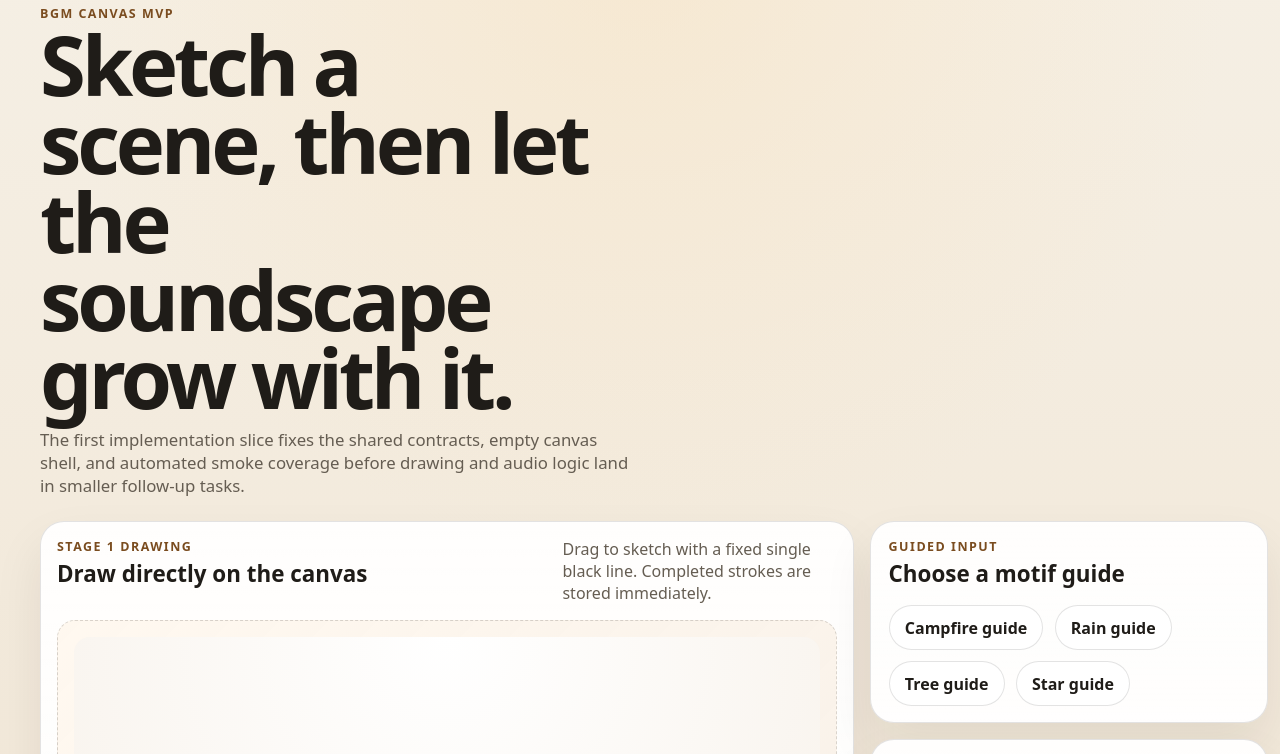
Test: App bootstrap › uses the selected guide motif after drawing
Click the button "Rain guide" at [1113, 628], box x1=1055 y1=605 x2=1172 y2=650
(page scrolled)
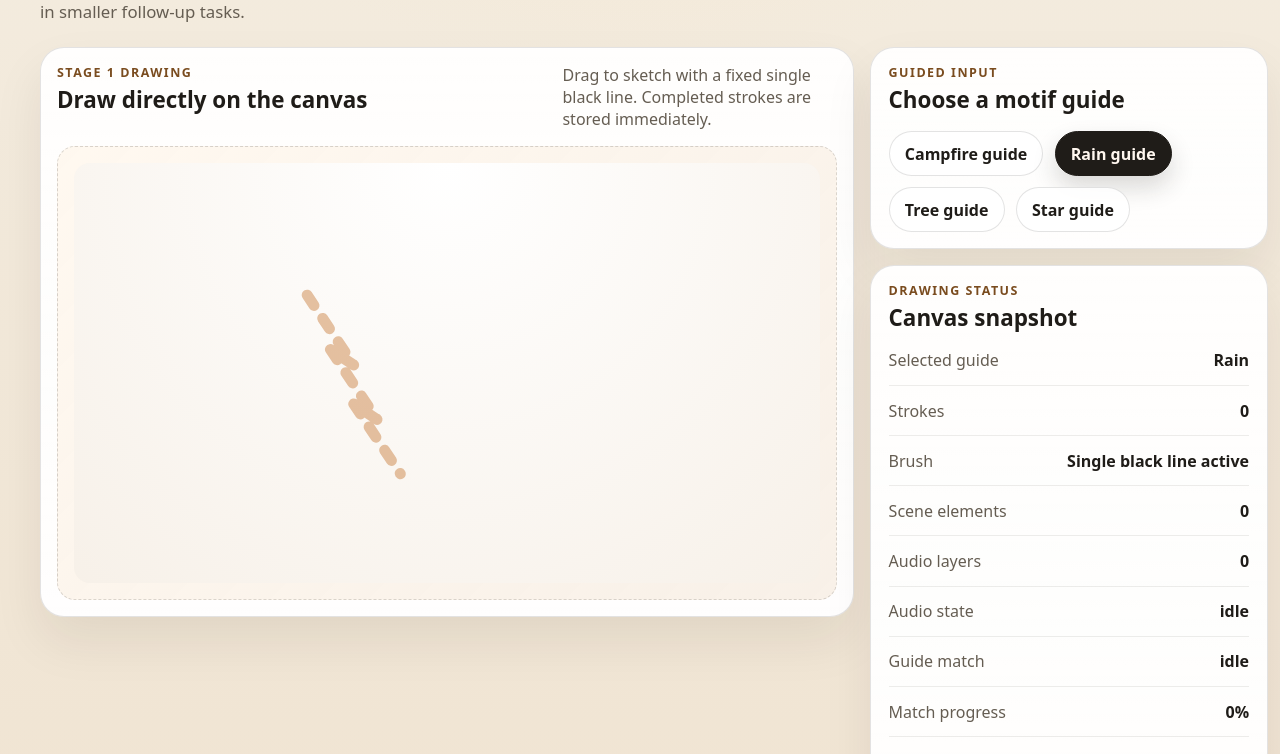
Press the mouse on the drawing named "bgm canvas drawing surface" at [447, 373], box x1=74 y1=163 x2=820 y2=583
(page scrolled)
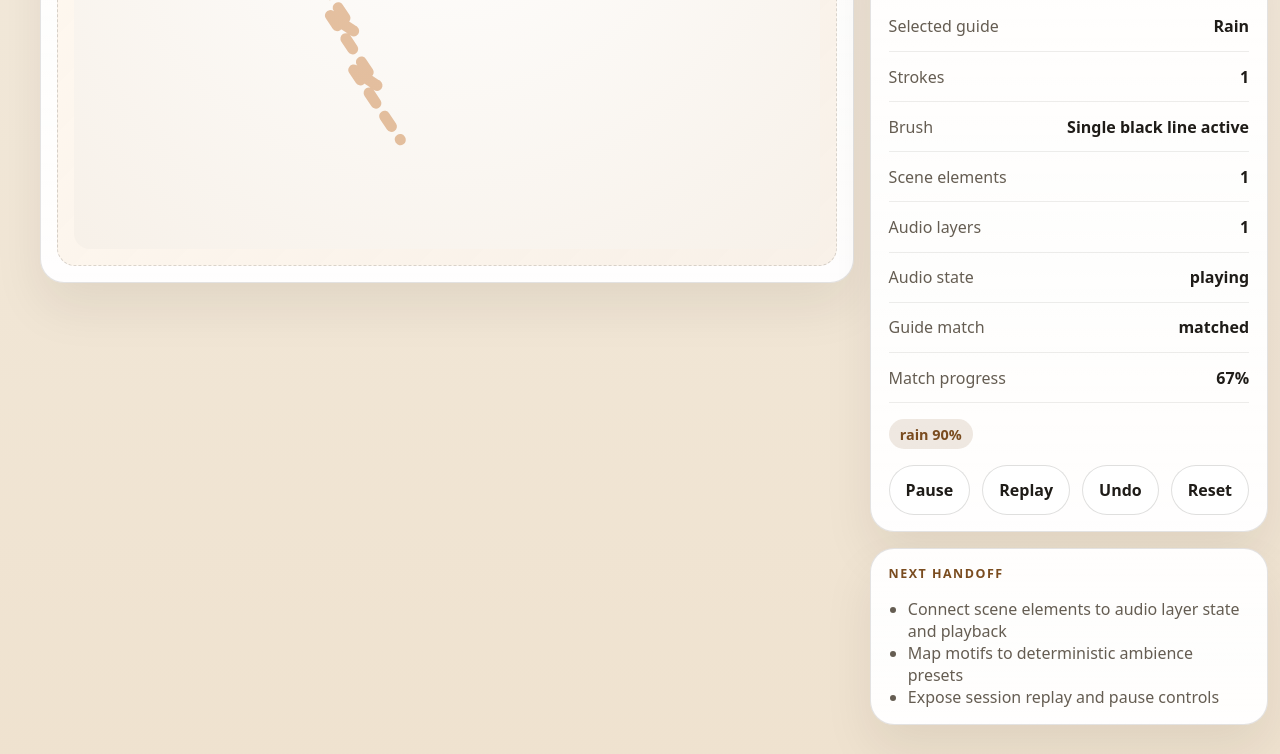
expect the text with test id "scene-count" reads "1": met, box x1=1240 y1=166 x2=1249 y2=188
expect the text with test id "audio-layer-count" reads "1": met, box x1=1240 y1=216 x2=1249 y2=238
expect the text with test id "audio-state" reads "playing": met, box x1=1190 y1=266 x2=1249 y2=288
